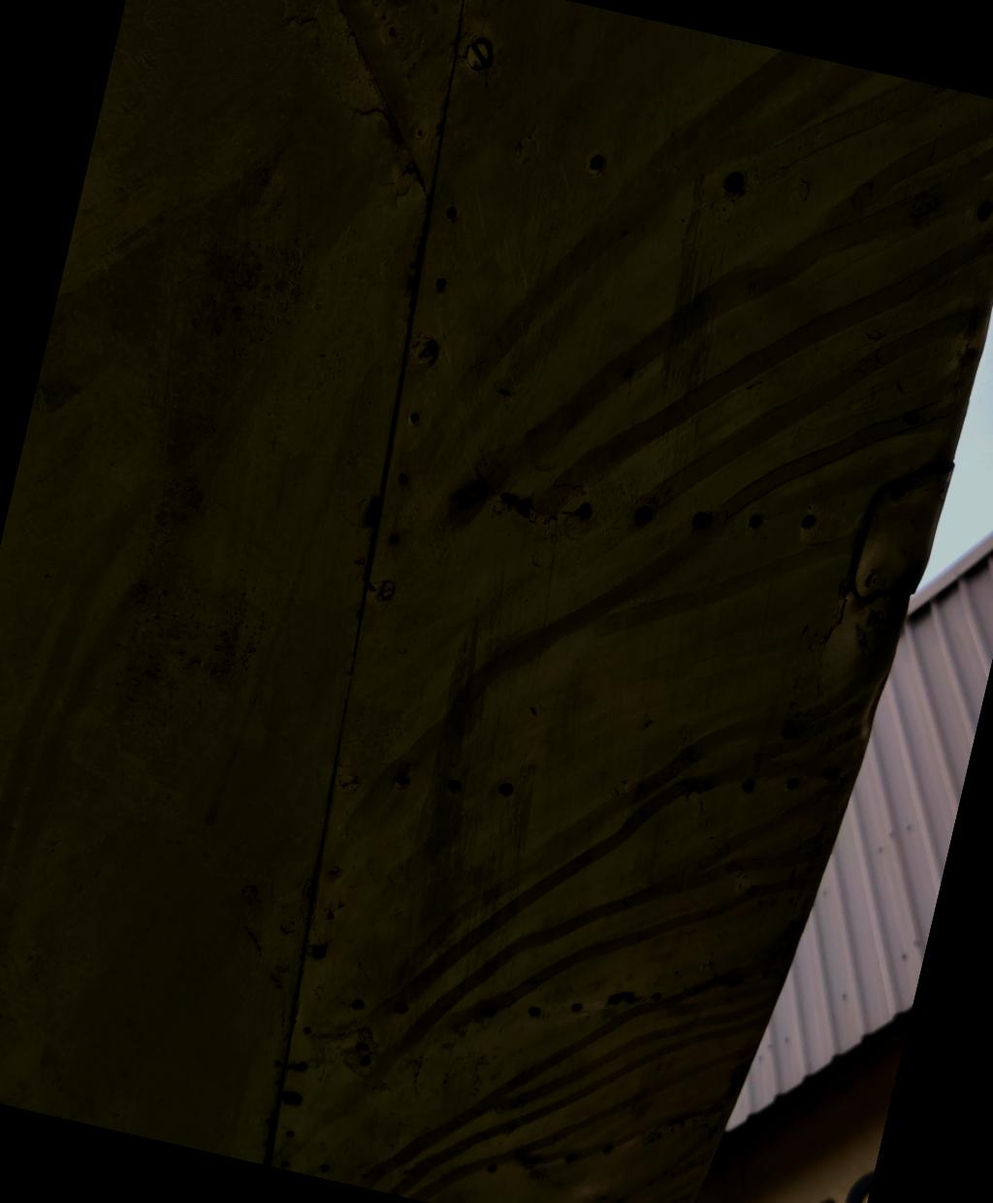crack: (473, 450, 558, 542), (591, 963, 654, 1031)
